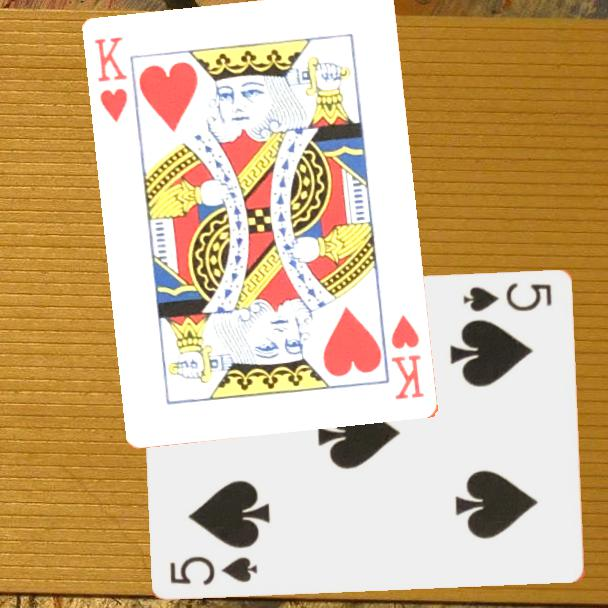h13: (388, 311, 428, 403), (92, 34, 131, 126)
s05: (460, 278, 555, 314), (166, 552, 260, 588)
